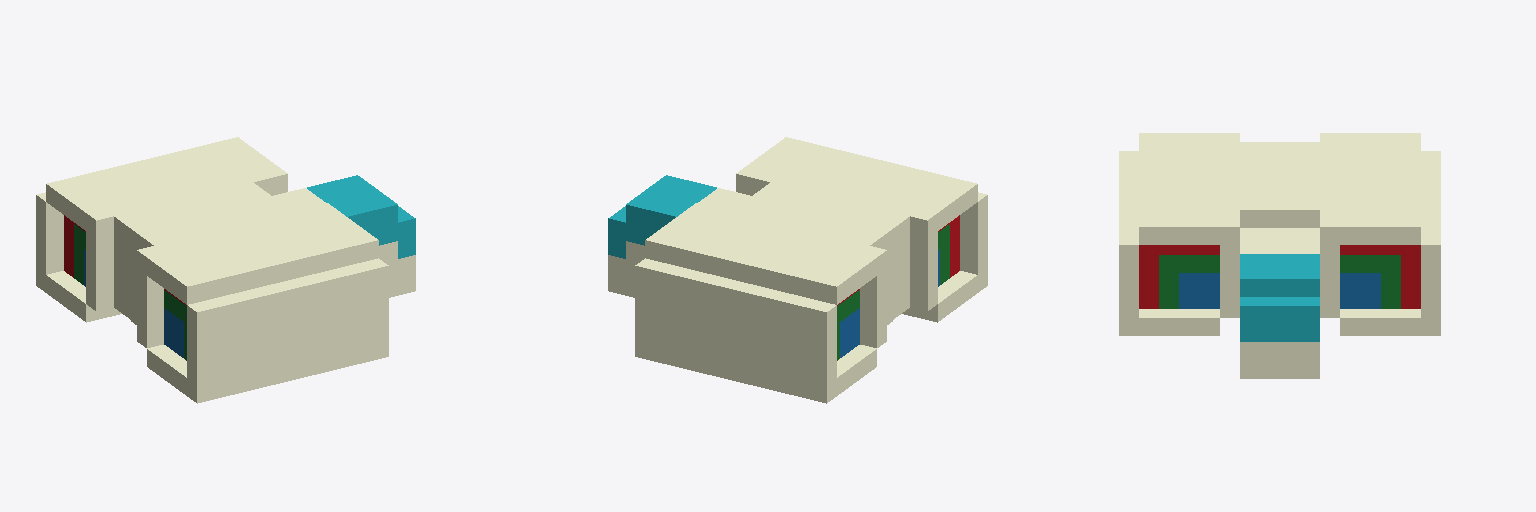
3 renders of one model, left to right at view 1: azimuth 30°, elevation 25°; view 2: azimuth 150°, elevation 25°; view 3: azimuth 270°, elevation 25°, orthographic.
Visible parts, largest first — view 1: hull; view 2: hull; view 3: hull.
Part boxes in pixels (x1,y1,x2,y2): hull: (36,137,415,403); hull: (608,137,987,403); hull: (1119,133,1440,378).
Bounding box in the file's own units: 1.6 × 0.6 × 1.6.
Materials: 1 (1 with a texture image).